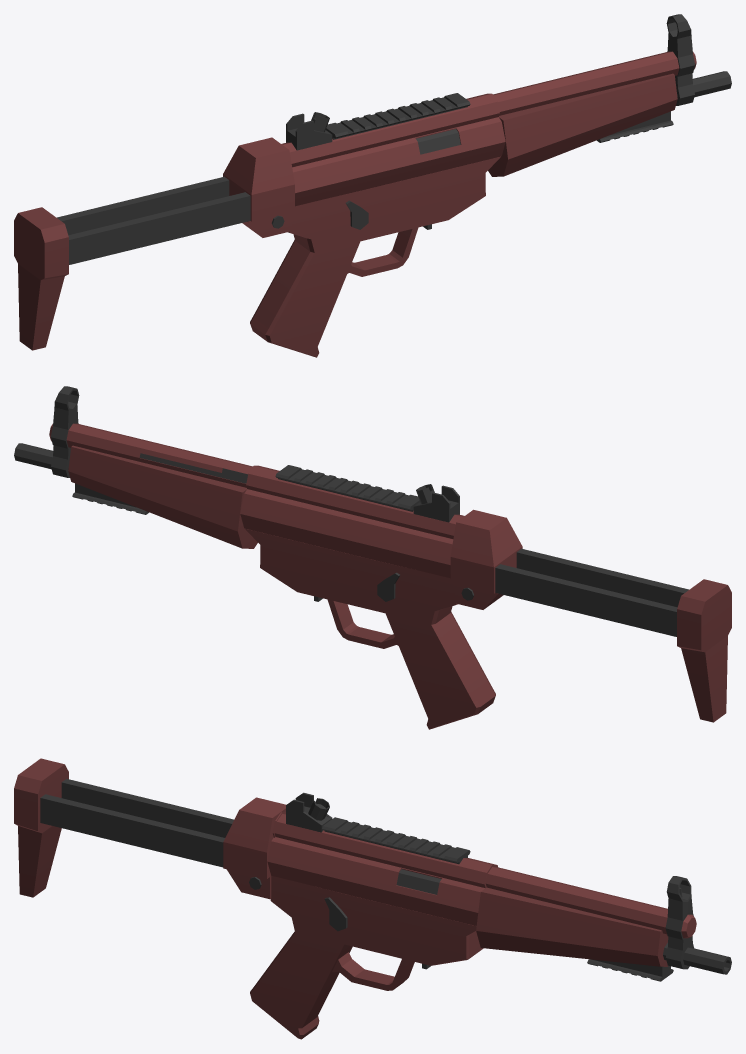
File: SMG2_02.fbx
3 views of the same model, one above another, from view 1: azimuth 30°, elevation 25°; view 2: azimuth 150°, elevation 25°; view 3: azimuth 330°, elevation 25° (orthographic).
Parts seen in each view (by area): view 1: SMG2_02; view 2: SMG2_02; view 3: SMG2_02.
Boxes of the visible parts, x1,y1,x2,y2 form: SMG2_02: (14, 14, 731, 357); SMG2_02: (14, 386, 731, 729); SMG2_02: (14, 758, 731, 1039).
Size of the model in its own units: 0.7164 by 0.2409 by 0.0566.
